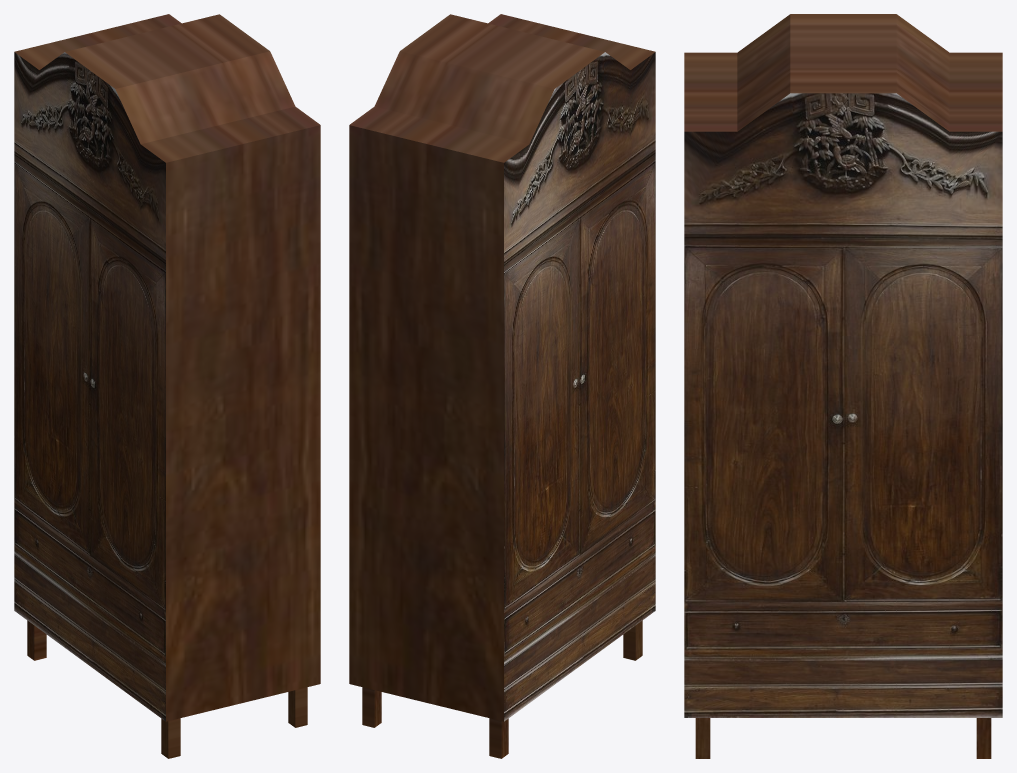
The model's file is Closet.fbx.
The picture shows the model from 3 angles, left to right: view 1: azimuth 30°, elevation 25°; view 2: azimuth 150°, elevation 25°; view 3: azimuth 270°, elevation 25°; orthographic projection. The views are drawn at different scales.
Parts seen in each view (by area): view 1: Cube.001; view 2: Cube.001; view 3: Cube.001.
Part boxes in pixels (x1,y1,x2,y2): Cube.001: (14,14,320,758); Cube.001: (349,14,655,758); Cube.001: (684,14,1002,758).
Size of the model in its own units: 2.73 by 4.62 by 10.74.
1 material, 1 textured.
